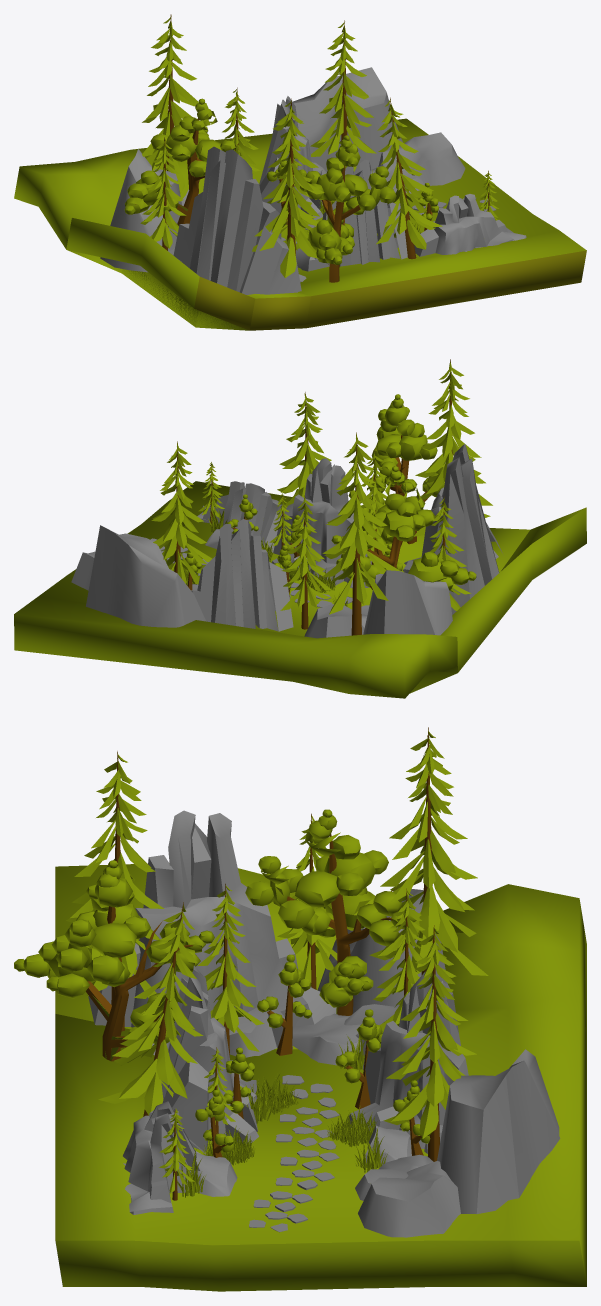
File: low_poly_environment_compressed-v1.glb
3 renders of one model, top to bottom at view 1: azimuth 30°, elevation 25°; view 2: azimuth 150°, elevation 25°; view 3: azimuth 270°, elevation 25°, orthographic. The views are drawn at different scales.
Parts seen in each view (by area): view 1: Object_5, Object_8, Object_4, Object_6; view 2: Object_5, Object_8, Object_4, Object_6, Object_2; view 3: Object_5, Object_8, Object_4, Object_6, Object_2, Object_7, Object_3.
Part boxes in pixels (x1,y1,x2,y2): Object_5: [100, 16, 526, 294]; Object_8: [14, 118, 586, 330]; Object_4: [125, 14, 497, 264]; Object_6: [150, 25, 498, 249]; Object_5: [71, 362, 502, 638]; Object_8: [14, 481, 586, 698]; Object_4: [152, 359, 492, 635]; Object_6: [151, 382, 471, 610]; Object_2: [186, 419, 420, 606]; Object_5: [14, 730, 560, 1237]; Object_8: [55, 864, 586, 1291]; Object_4: [23, 727, 488, 1200]; Object_6: [87, 745, 476, 1196]; Object_2: [64, 865, 380, 1192]; Object_7: [177, 831, 385, 1193]; Object_3: [182, 1061, 375, 1196].
Size of the model in its own units: 54.11 by 33.06 by 47.31.
Materials: 1 (1 with a texture image).
